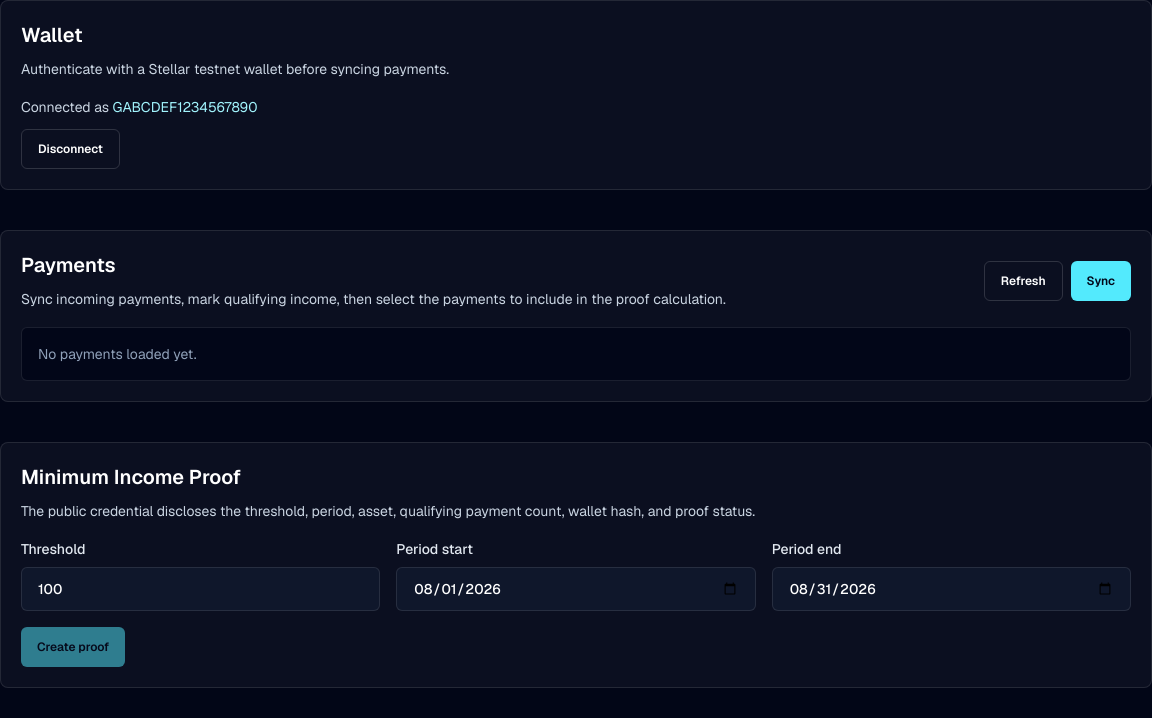
Scenario: CreateProofFlow submission locking › a rapid double click only sends one mutation
This screenshot has width=1152, height=718.
Click the button "Refresh".
click(1023, 281)  # box [984,261,1063,301]
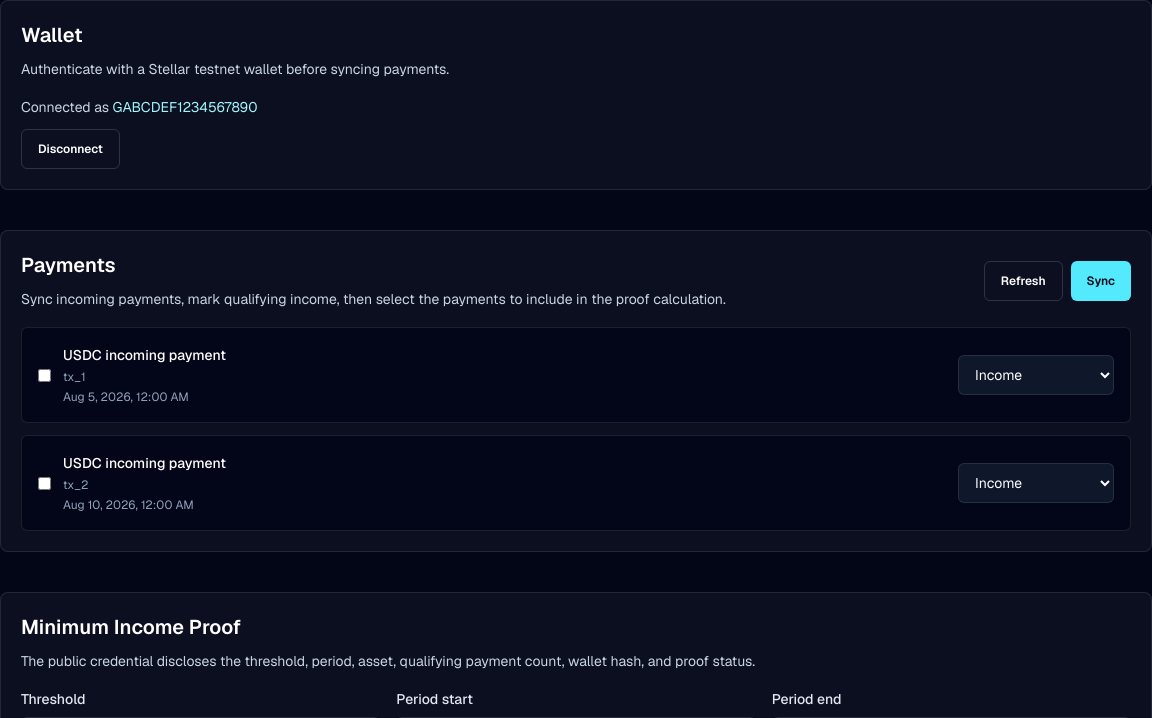
Check: the number of checkboxes named "Select payment" is 2
Click the checkbox named "Select payment" next to "tx_1".
click(44, 375)  # box [38,368,51,382]
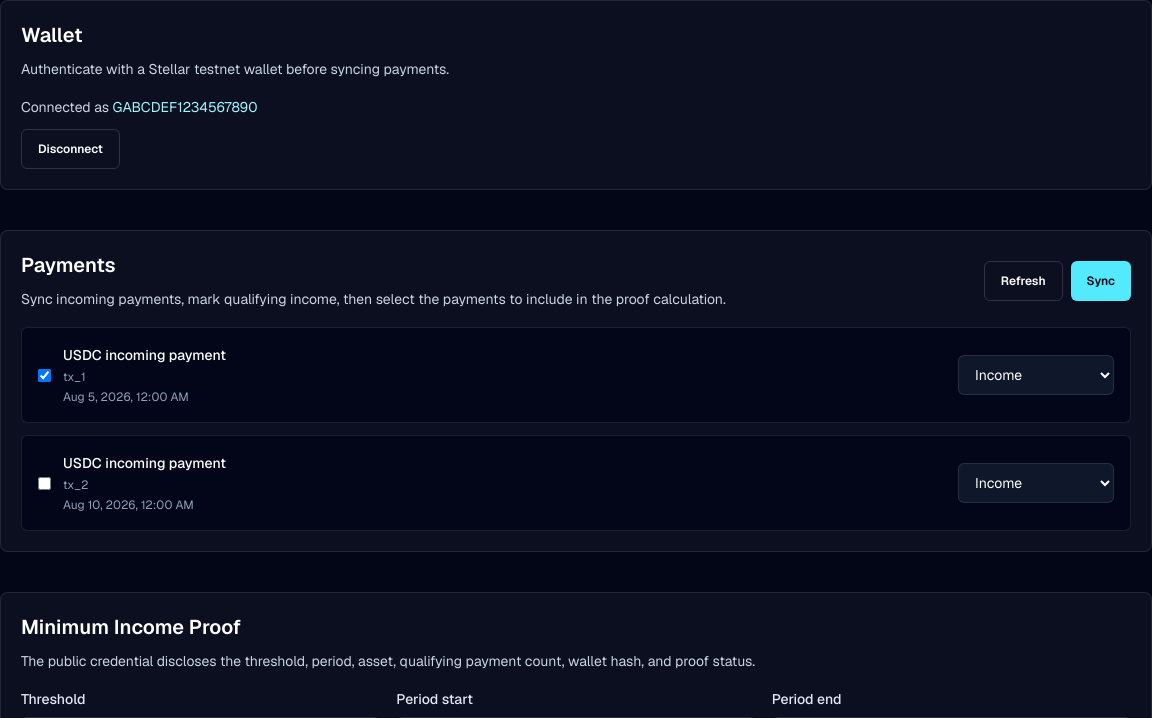
Click the checkbox named "Select payment" next to "tx_2".
click(44, 483)  # box [38,476,51,490]
(page scrolled)
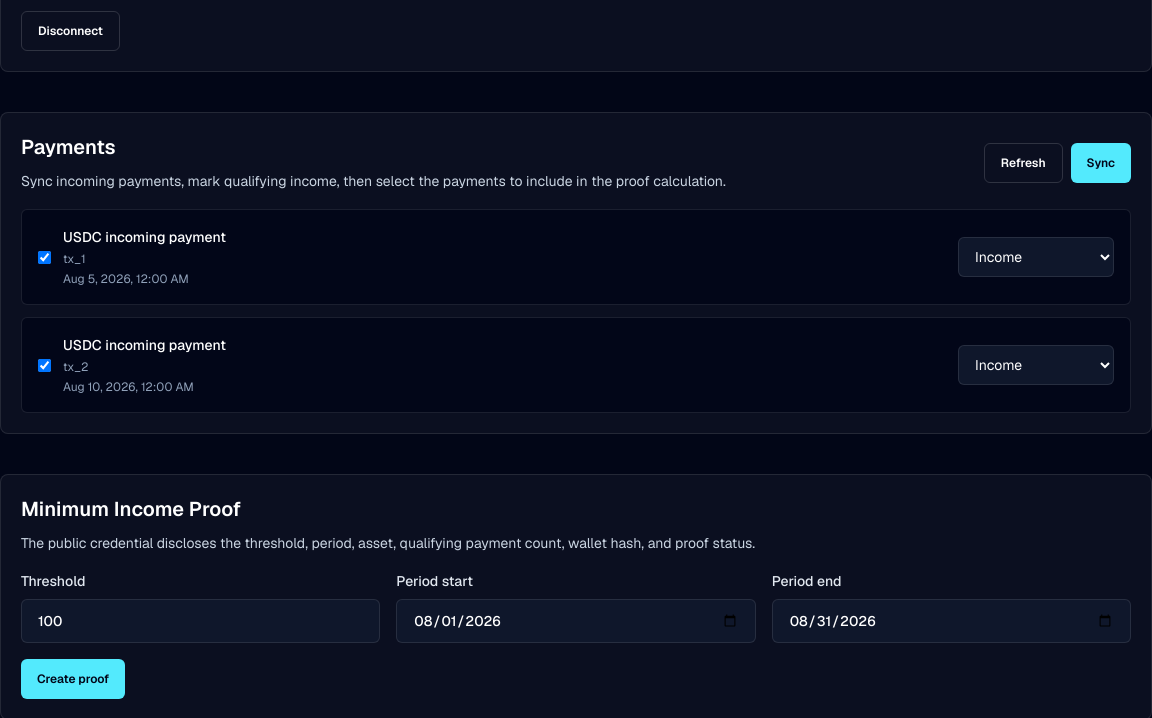
Check: the button "Create proof" is enabled
Click the button "Create proof".
click(73, 679)  # box [21,659,125,699]
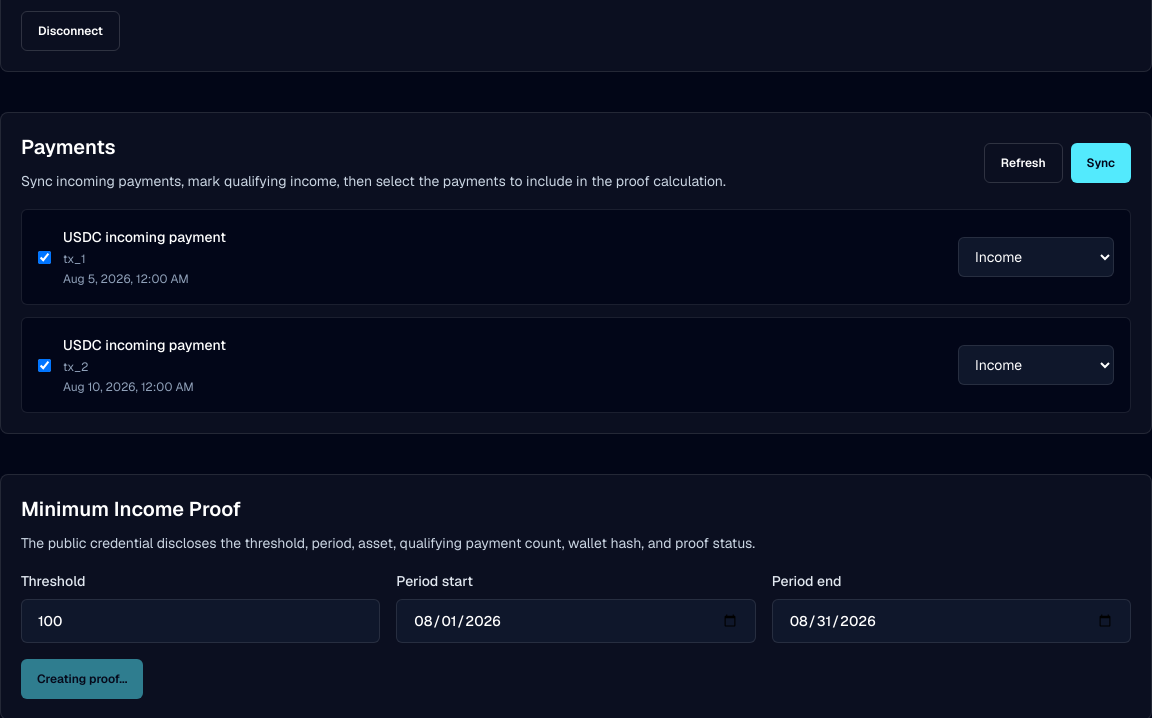
Click the button named "Create proof".
click(82, 679)  # box [21,659,143,699]
(page scrolled)
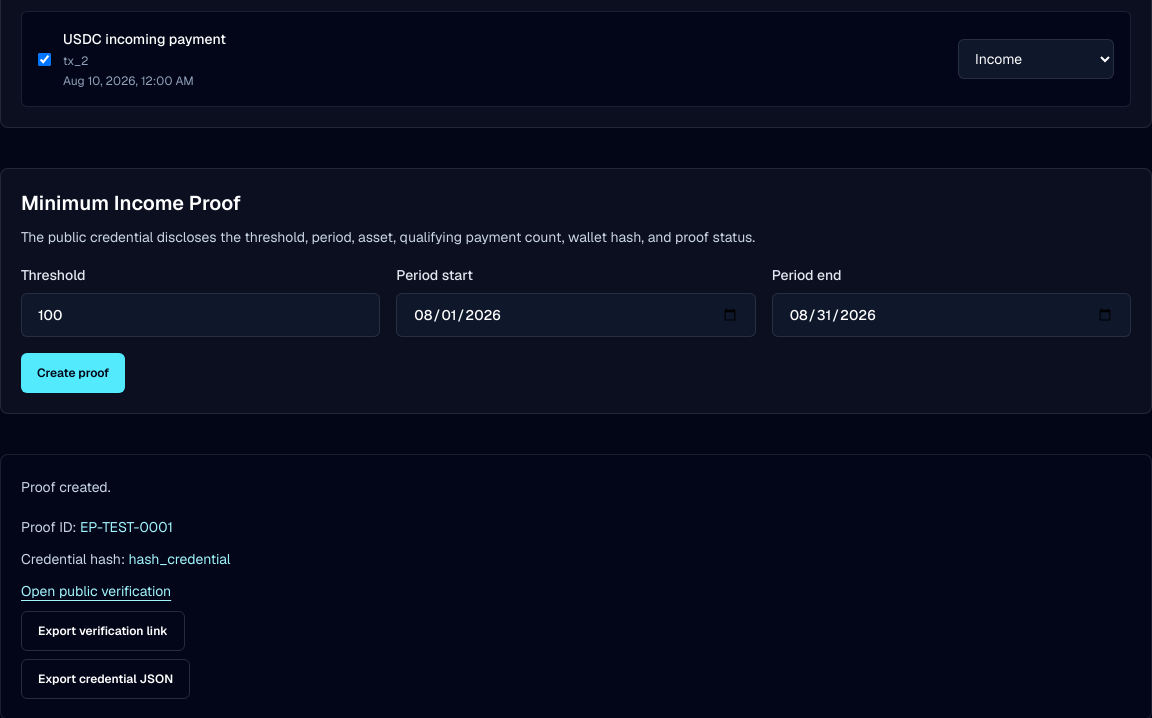
Check: the text "Proof created." is shown, box [21,478,110,496]
